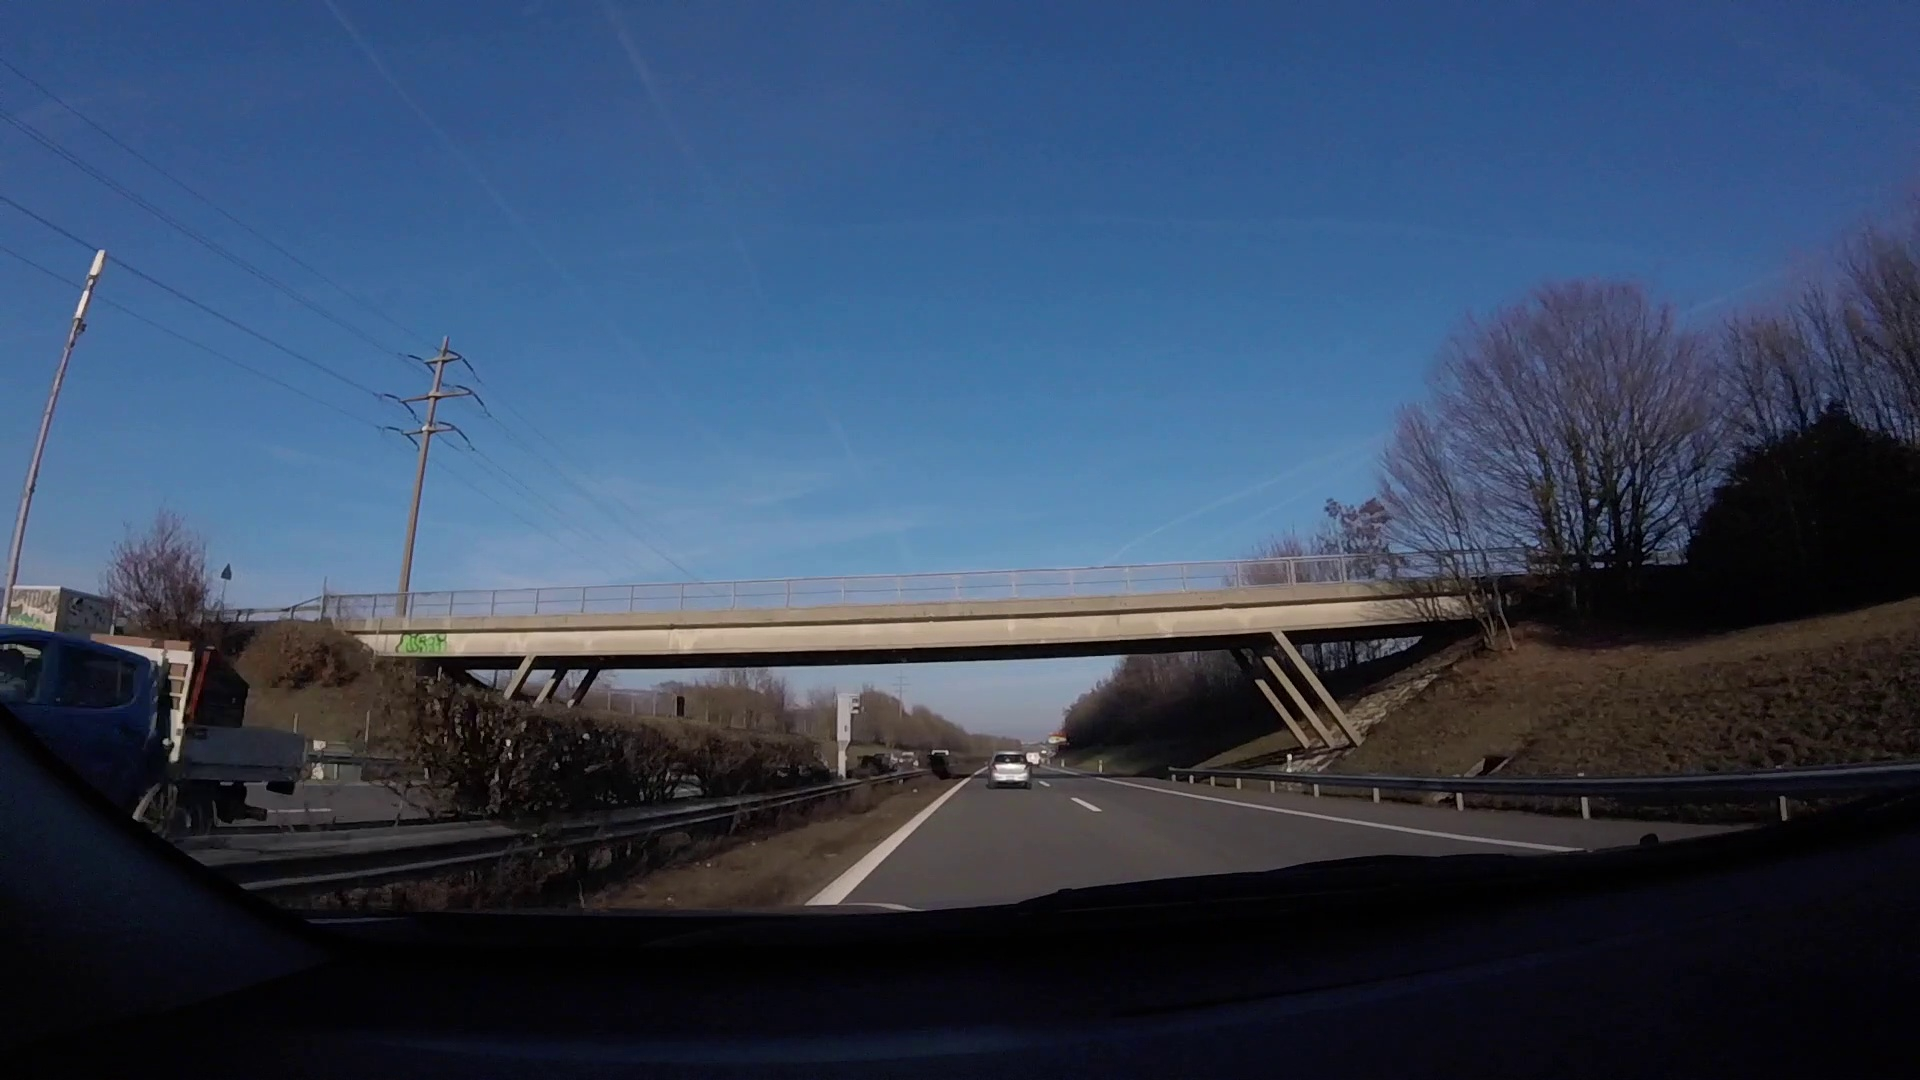radar: (835, 691, 869, 781)
